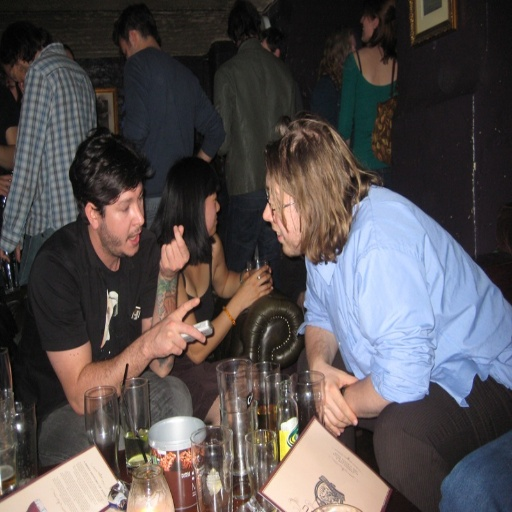hand: (131, 306, 192, 372), (311, 362, 360, 439), (159, 221, 190, 277), (236, 267, 273, 308), (245, 265, 272, 286), (0, 243, 21, 265), (0, 173, 12, 198)
